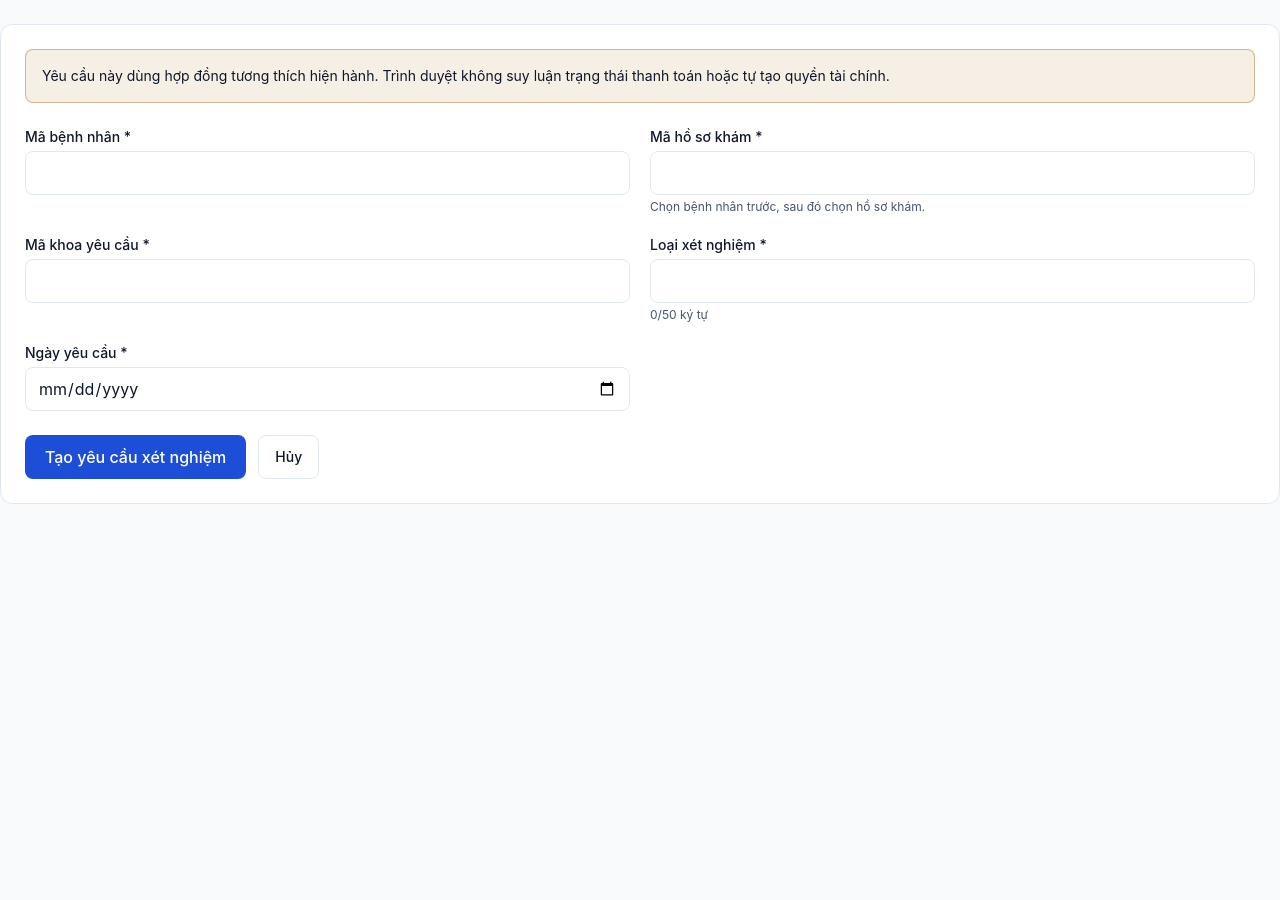
Scenario: Create lab request form › maps a backend validation error without submitting another contract field
The image size is (1280, 900).
Type "123e4567-e89b-42d3-a456-426614174001" into the field labelled "Mã bệnh nhân".
click(328, 173); type("123e4567-e89b-42d3-a456-426614174001")  # box [25,151,630,195]
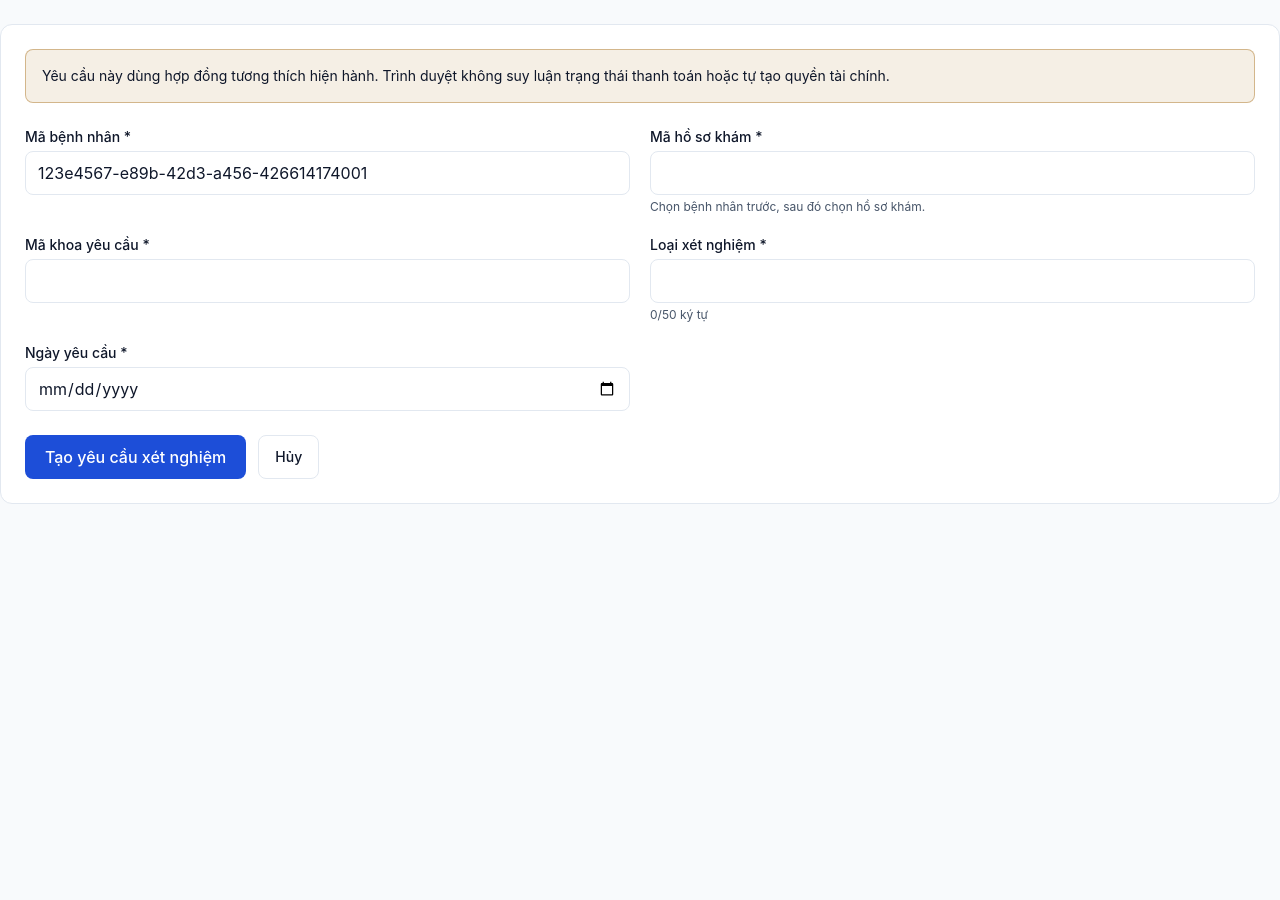
Type "123e4567-e89b-42d3-a456-426614174000" into the field labelled "Mã hồ sơ khám".
click(952, 173); type("123e4567-e89b-42d3-a456-426614174000")  # box [650,151,1255,195]
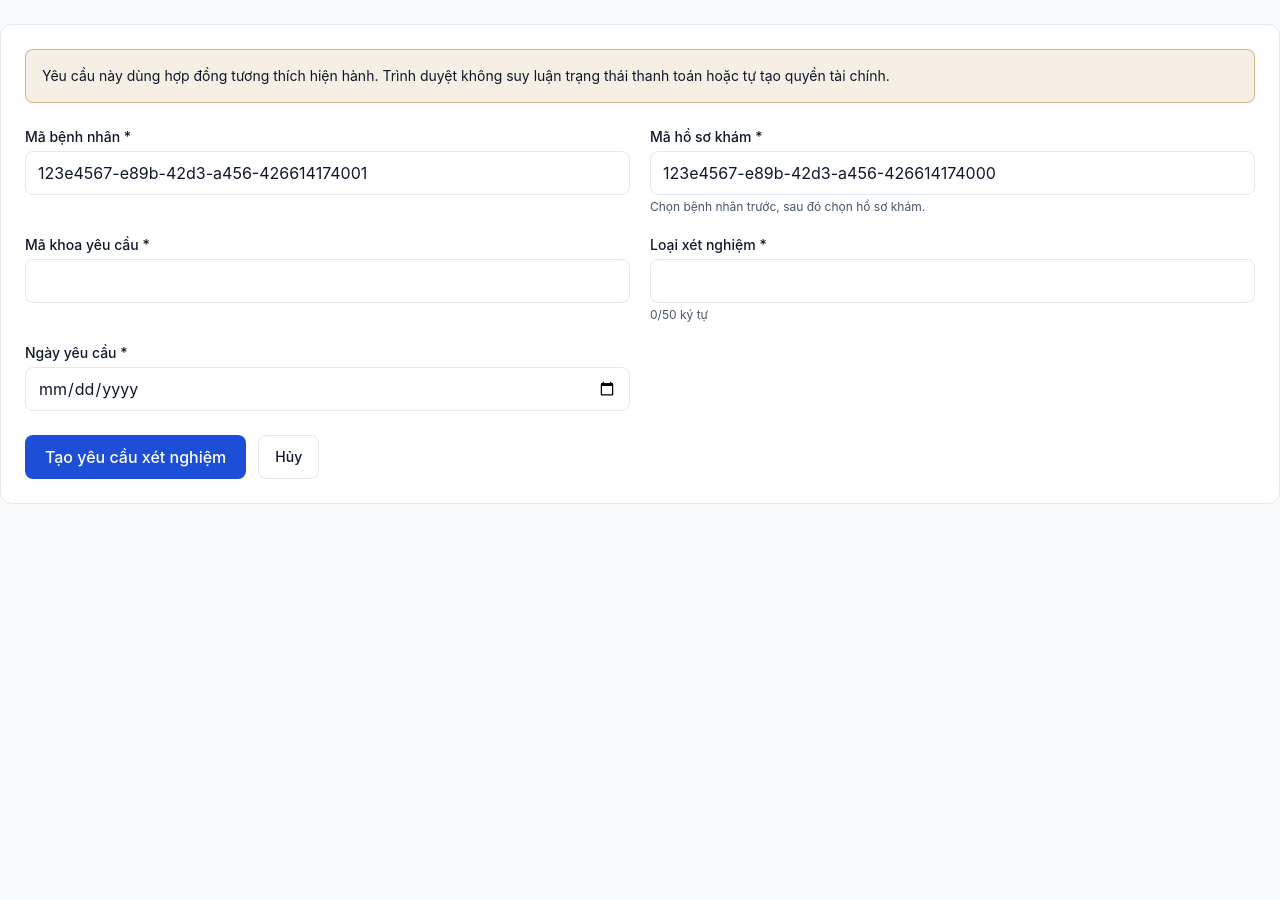
Type "123e4567-e89b-42d3-a456-426614174002" into the field labelled "Mã khoa yêu cầu".
click(328, 281); type("123e4567-e89b-42d3-a456-426614174002")  # box [25,259,630,303]
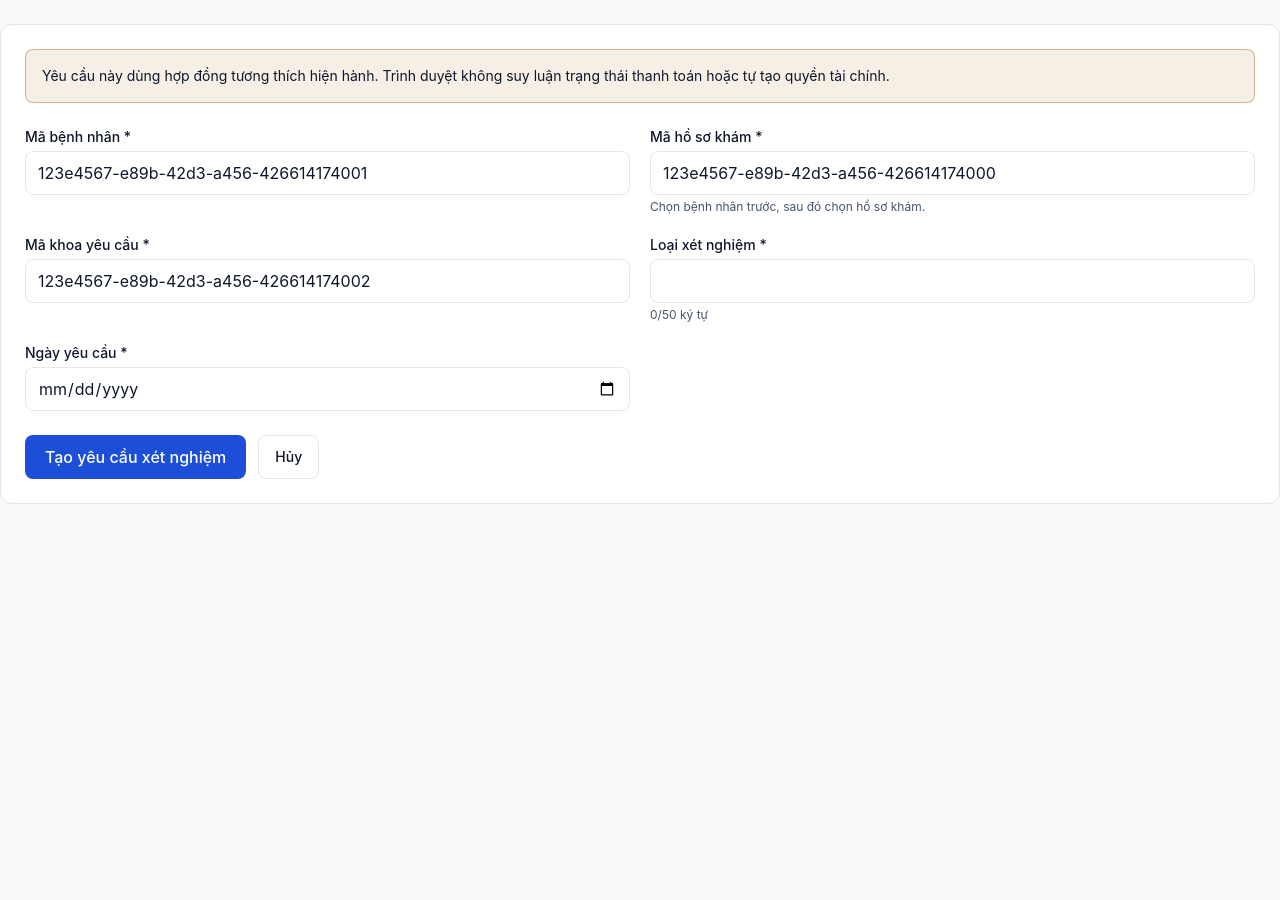
Type "CBC" into the field labelled "Loại xét nghiệm".
click(952, 281); type("CBC")  # box [650,259,1255,303]
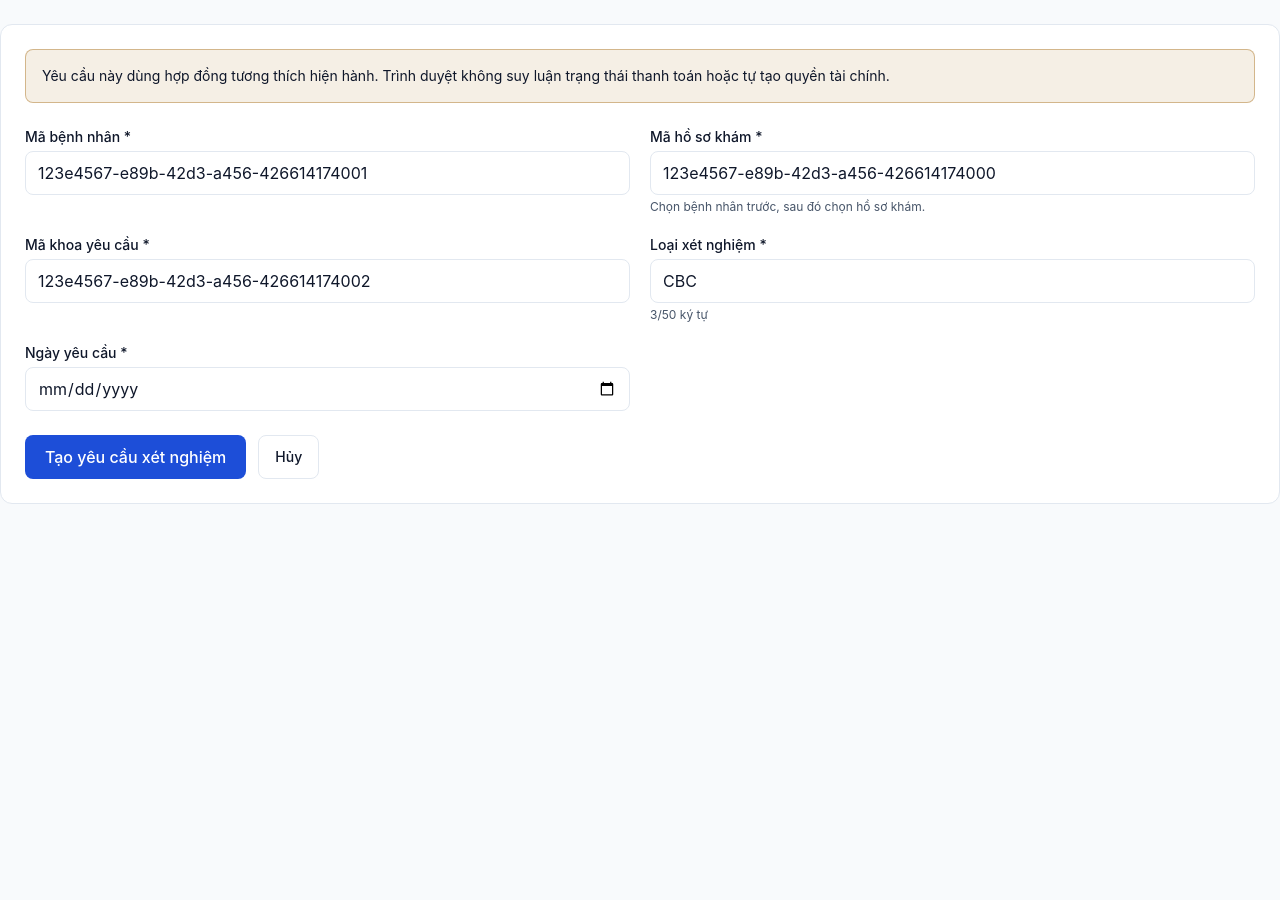
Type "2026-10-16" into the date field labelled "Ngày yêu cầu".
click(328, 389); type("2026-10-16")  # box [25,367,630,411]
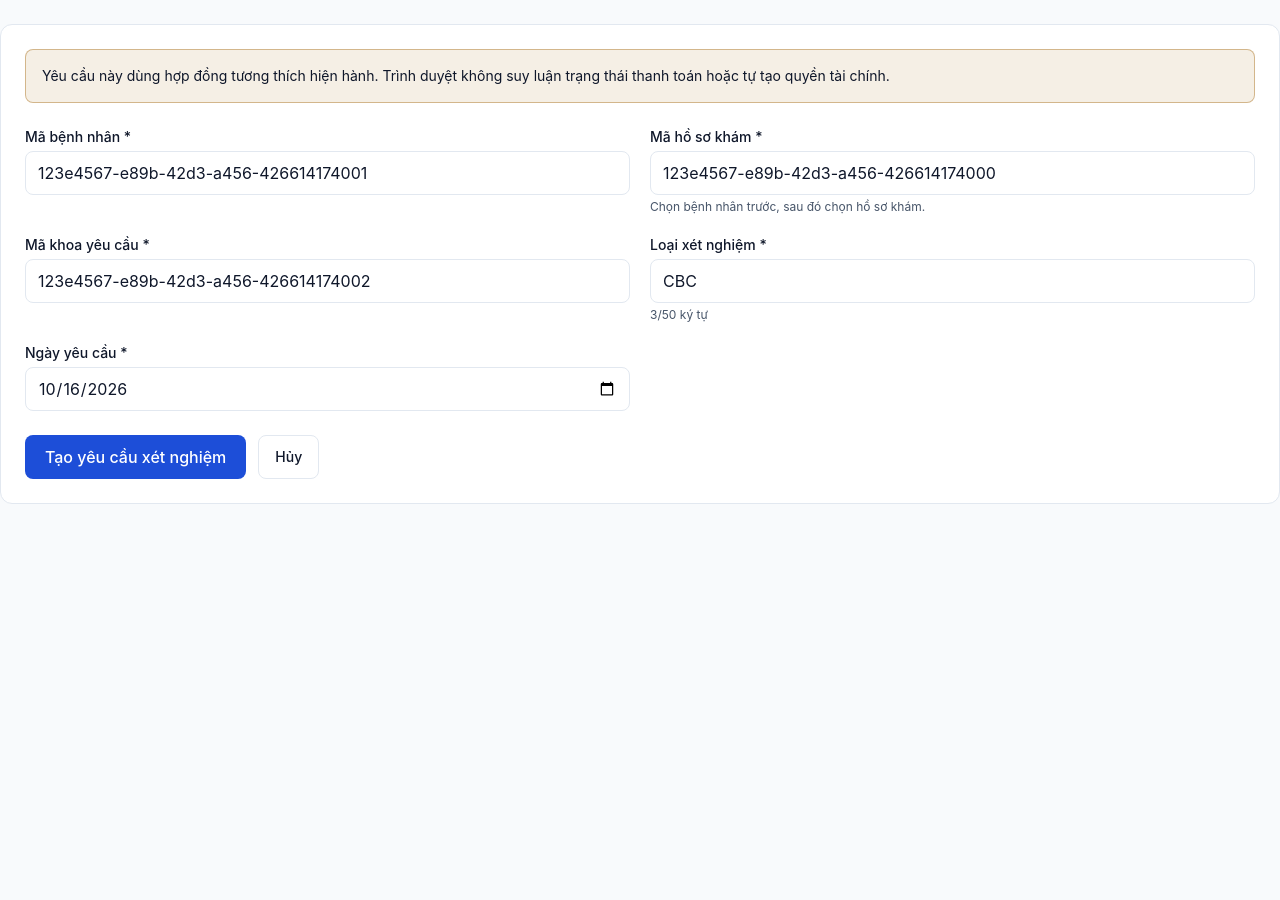
Click the button "Tạo yêu cầu xét nghiệm".
click(136, 457)  # box [25,435,246,479]
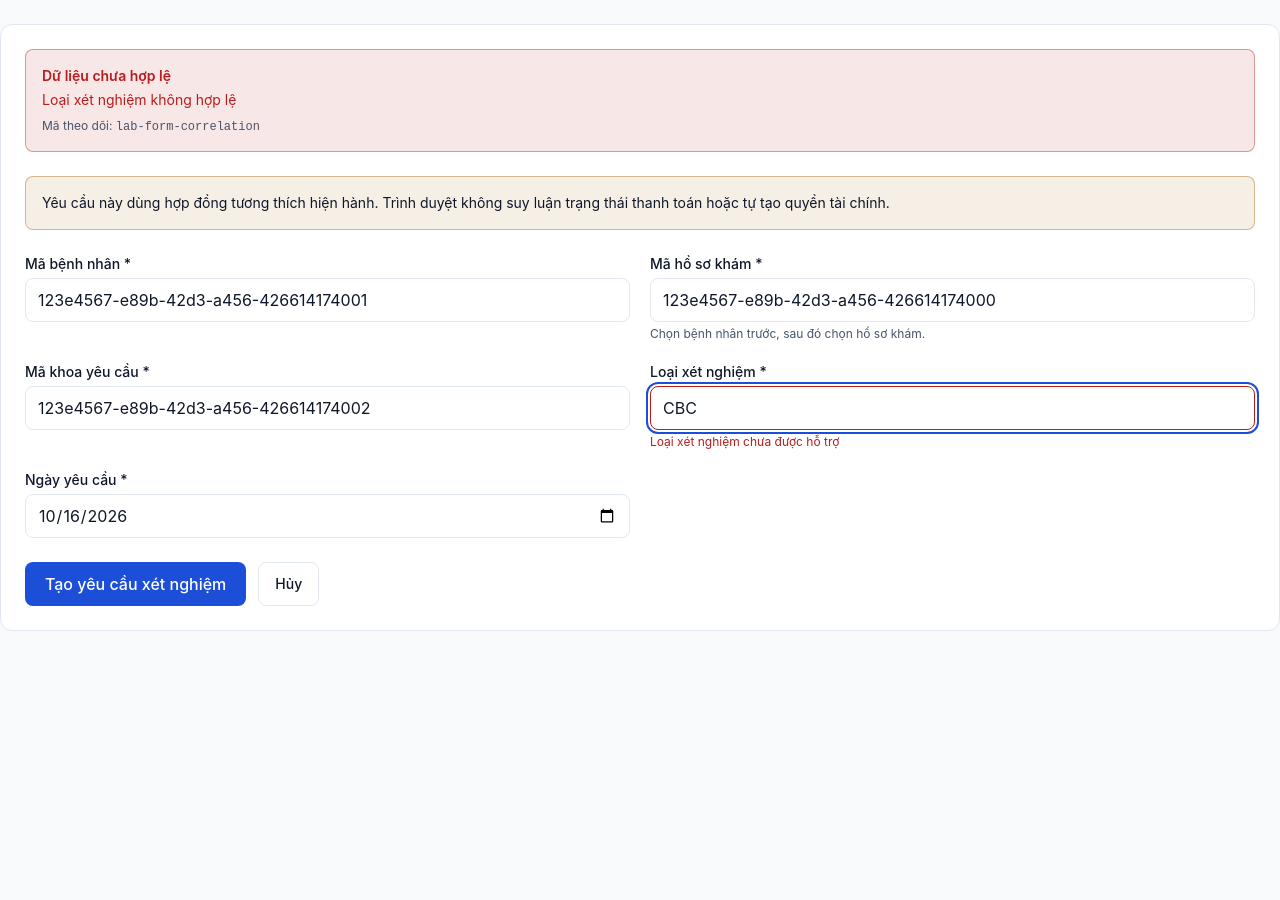
Check: the text "Loại xét nghiệm chưa được hỗ trợ" is shown, box [650,434,839,449]
Check: the text "lab-form-correlation" is shown, box [116,120,260,134]
